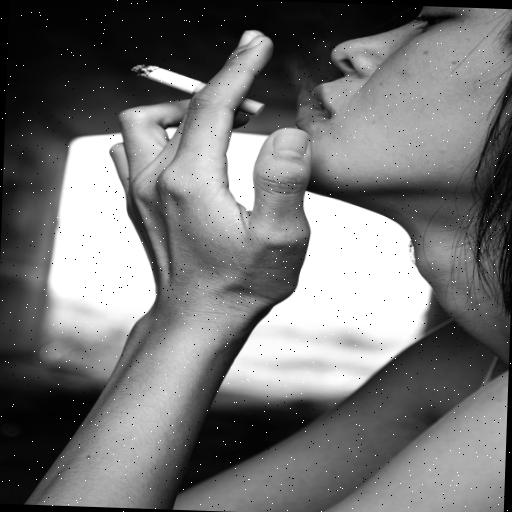terdeteksi merokok: (86, 14, 301, 228)
